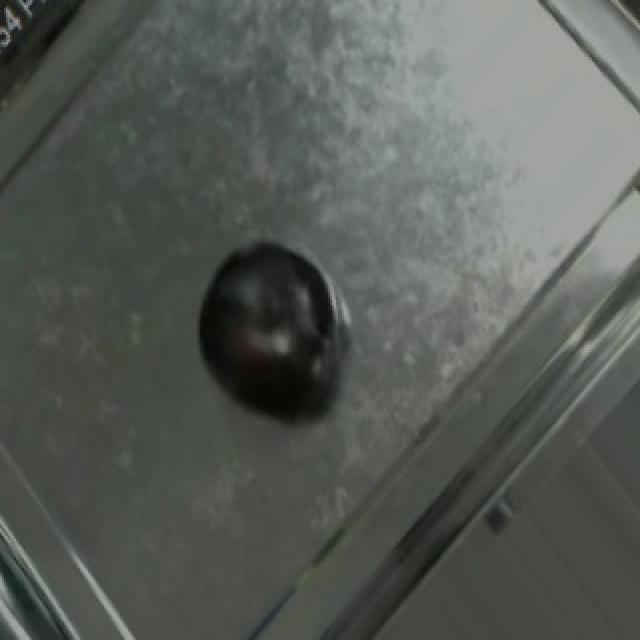Fruit: (178, 223, 350, 424)
